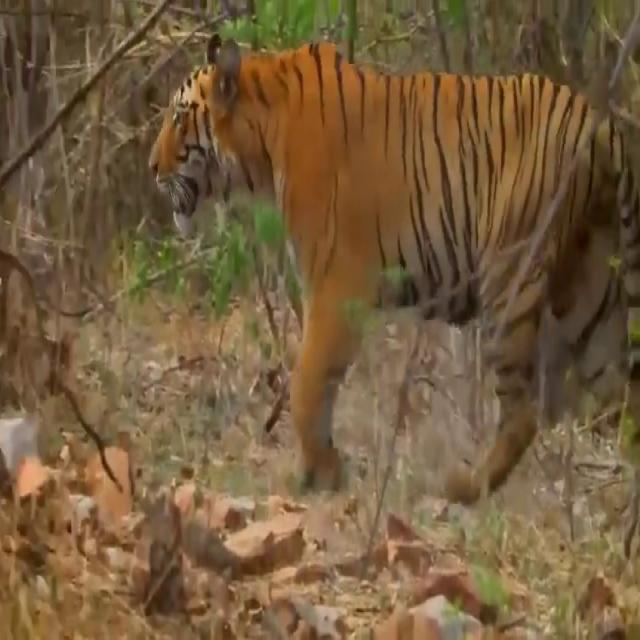tiger: (148, 34, 640, 503)
